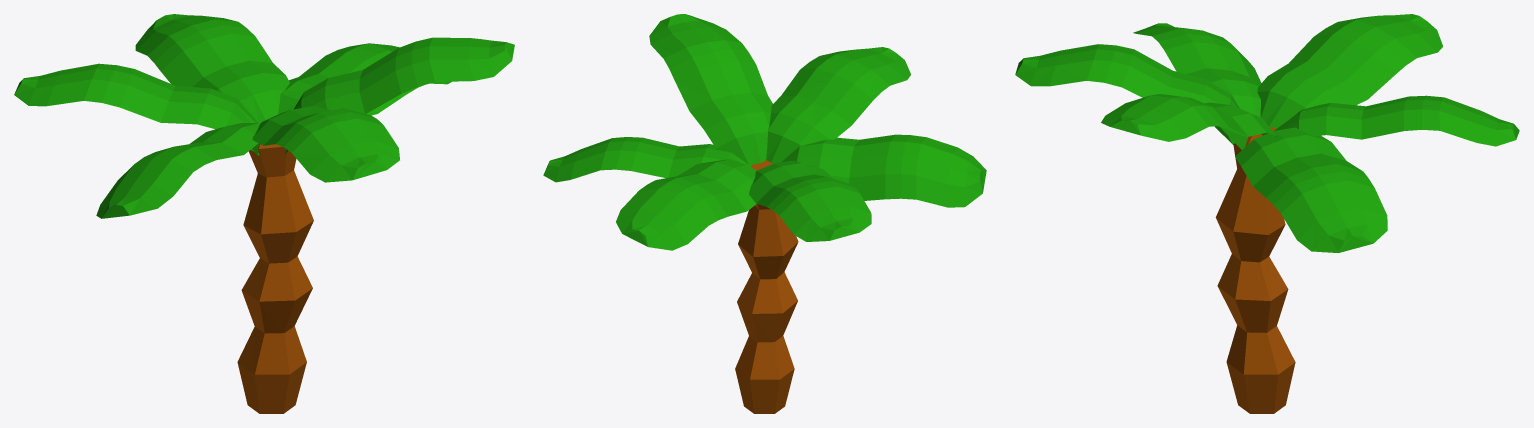
File: palmtree_animated_joined.obj
3 views of the same model, side by side, from view 1: azimuth 30°, elevation 25°; view 2: azimuth 150°, elevation 25°; view 3: azimuth 270°, elevation 25° (orthographic). The views are drawn at different scales.
Visible parts, largest first — view 1: Palmtree_Cylinder_LeafMaterial, Palmtree_Cylinder_WoodMaterial; view 2: Palmtree_Cylinder_LeafMaterial, Palmtree_Cylinder_WoodMaterial; view 3: Palmtree_Cylinder_LeafMaterial, Palmtree_Cylinder_WoodMaterial.
Boxes of the visible parts, x1,y1,x2,y2 form: Palmtree_Cylinder_LeafMaterial: (14,14,514,218); Palmtree_Cylinder_WoodMaterial: (237,144,313,413); Palmtree_Cylinder_LeafMaterial: (543,14,986,250); Palmtree_Cylinder_WoodMaterial: (735,160,798,413); Palmtree_Cylinder_LeafMaterial: (1015,14,1519,252); Palmtree_Cylinder_WoodMaterial: (1215,126,1295,413).
Bounding box in the file's own units: 20.49 × 16.92 × 21.15.
